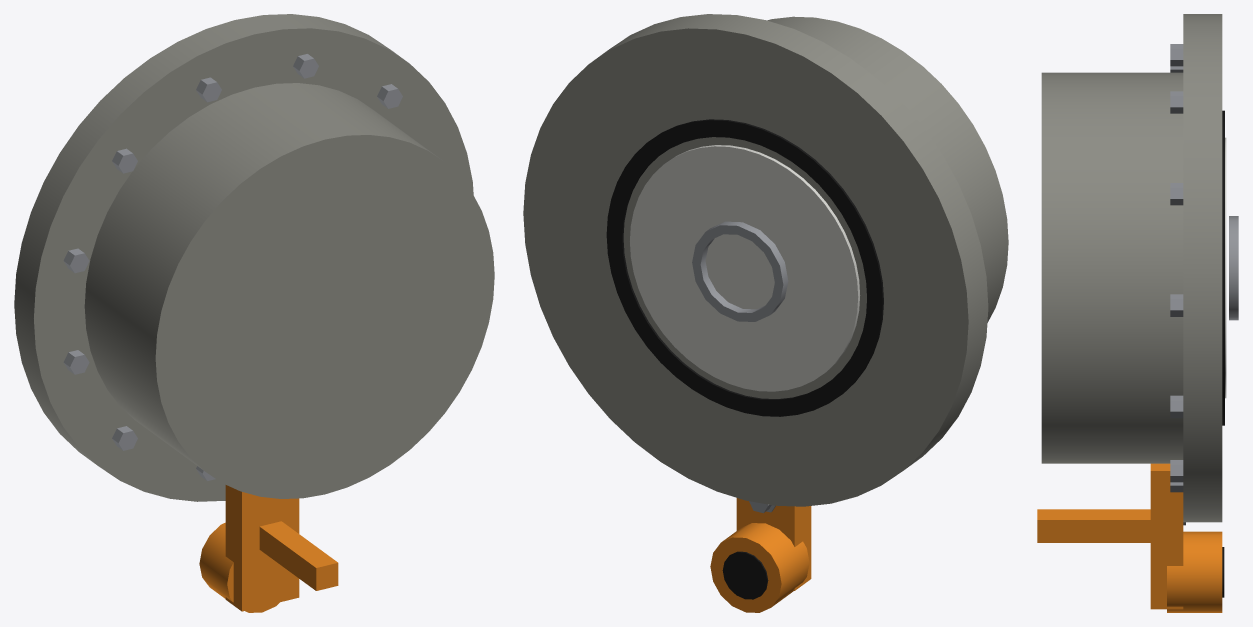
Rendered from refuge100_flange.obj.
3 renders of one model, left to right at view 1: azimuth 30°, elevation 25°; view 2: azimuth 150°, elevation 25°; view 3: azimuth 270°, elevation 25°, orthographic.
Visible parts, largest first — view 1: refuge100_flange; view 2: refuge100_flange; view 3: refuge100_flange.
Boxes of the visible parts, x1,y1,x2,y2 form: refuge100_flange: [14, 14, 494, 612]; refuge100_flange: [523, 14, 1008, 612]; refuge100_flange: [1037, 14, 1238, 612].
Size of the model in its own units: 1.56 by 1.93 by 0.6176.
